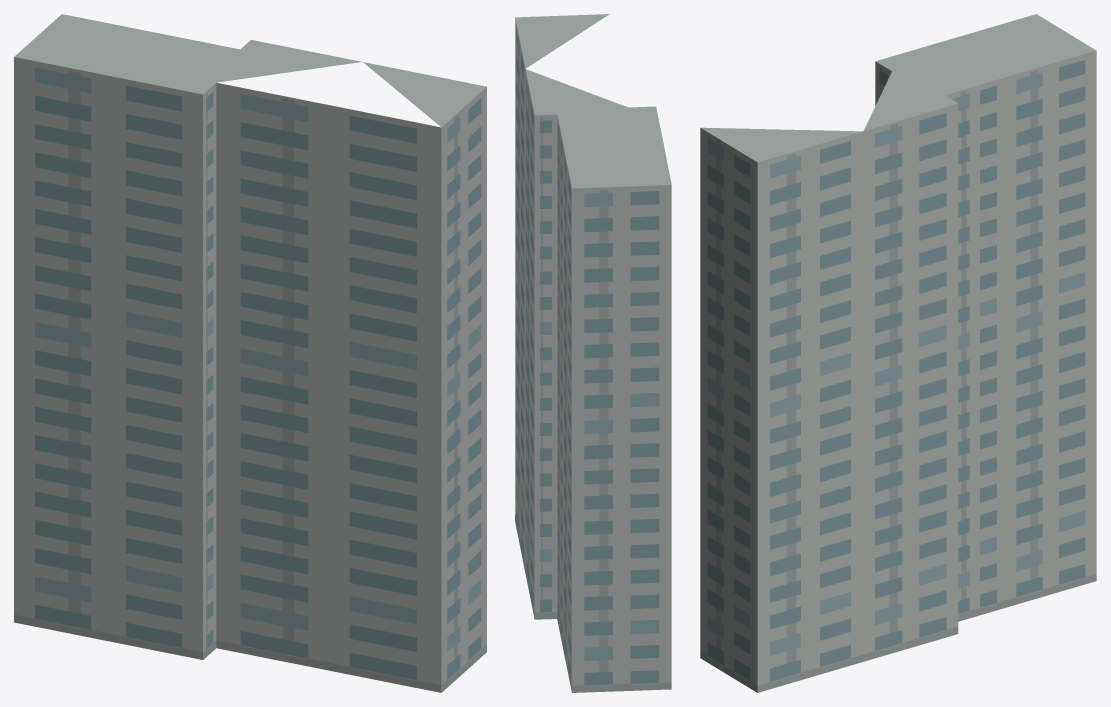
Rendered from residential-d91228fa-7755-4523-9bef-7ed355f3bd9c.glb.
3 renders of one model, left to right at view 1: azimuth 30°, elevation 25°; view 2: azimuth 150°, elevation 25°; view 3: azimuth 270°, elevation 25°, orthographic. The views are drawn at different scales.
Parts seen in each view (by area): view 1: residential-d91228fa-7755-4523-9bef-7ed355f3bd9c.tmp; view 2: residential-d91228fa-7755-4523-9bef-7ed355f3bd9c.tmp; view 3: residential-d91228fa-7755-4523-9bef-7ed355f3bd9c.tmp.
Part boxes in pixels (left/top/right/bottom): residential-d91228fa-7755-4523-9bef-7ed355f3bd9c.tmp: left=14, top=14, right=486, bottom=692; residential-d91228fa-7755-4523-9bef-7ed355f3bd9c.tmp: left=515, top=14, right=671, bottom=692; residential-d91228fa-7755-4523-9bef-7ed355f3bd9c.tmp: left=700, top=14, right=1096, bottom=692.
Bounding box in the file's own units: 33.01 × 55 × 37.22.
